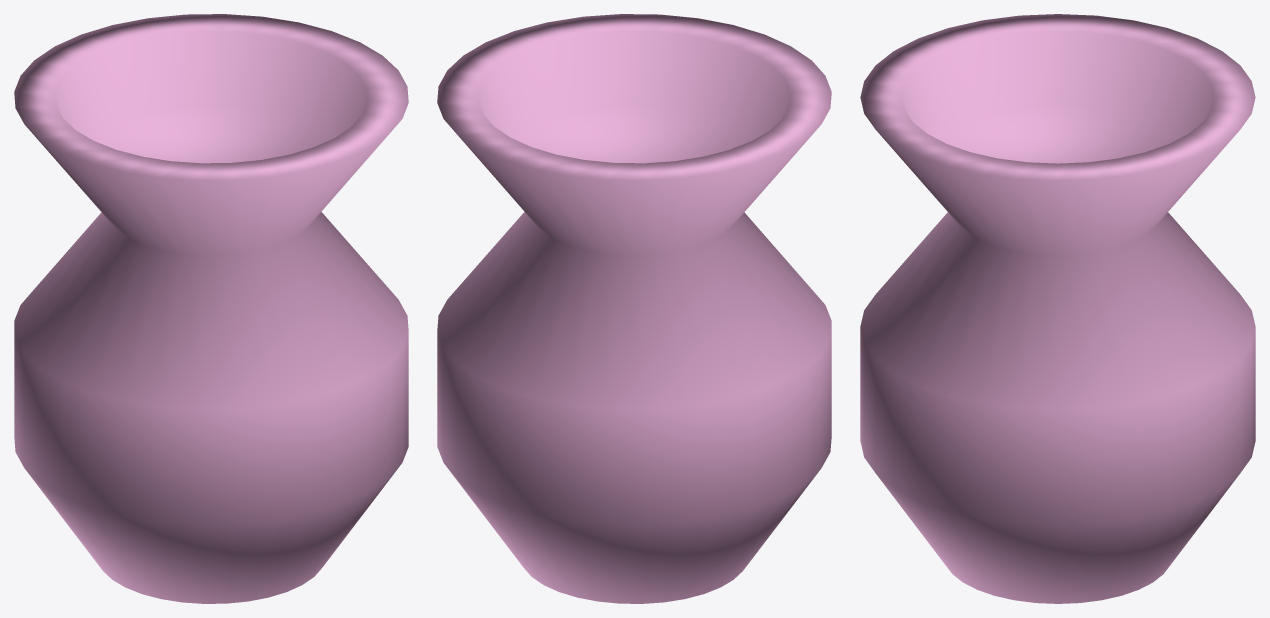
The model's file is Vase3.fbx.
3 views of the same model, side by side, from view 1: azimuth 30°, elevation 25°; view 2: azimuth 150°, elevation 25°; view 3: azimuth 270°, elevation 25° (orthographic).
Parts seen in each view (by area): view 1: Cylinder.004; view 2: Cylinder.004; view 3: Cylinder.004.
Part boxes in pixels (x1,y1,x2,y2): Cylinder.004: (14,14,408,603); Cylinder.004: (437,14,831,603); Cylinder.004: (860,14,1255,603).
Bounding box in the file's own units: 38.08 × 48.71 × 38.08.
